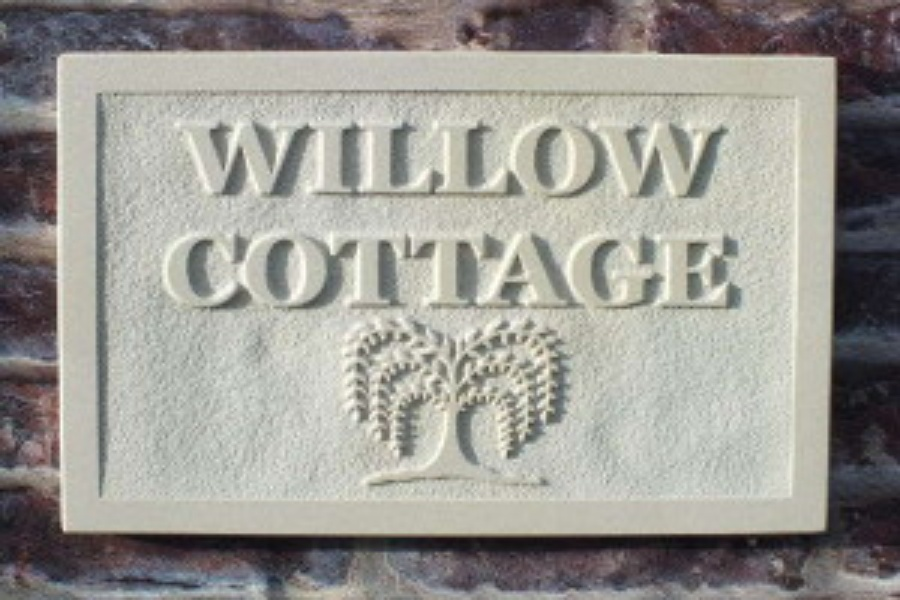text: (177, 115, 192, 199), (193, 115, 208, 199), (209, 115, 224, 199), (225, 115, 240, 199), (241, 115, 256, 199), (257, 115, 272, 199), (273, 115, 288, 199), (289, 115, 304, 199), (305, 115, 320, 199), (321, 115, 336, 199), (337, 115, 352, 199), (353, 115, 368, 199), (369, 115, 384, 199), (385, 115, 400, 199), (401, 115, 416, 199), (417, 115, 432, 199), (433, 115, 448, 199), (449, 115, 464, 199), (465, 115, 480, 199), (481, 115, 496, 199), (497, 115, 512, 199), (513, 115, 528, 199), (529, 115, 544, 199), (545, 115, 560, 199), (561, 115, 576, 199), (577, 115, 592, 199), (593, 115, 608, 199), (609, 115, 624, 199), (625, 115, 640, 199), (641, 115, 656, 199), (657, 115, 672, 199), (673, 115, 688, 199), (689, 115, 704, 199), (705, 115, 720, 199), (177, 232, 192, 310), (193, 232, 208, 310), (209, 232, 224, 310), (225, 232, 240, 310), (241, 232, 256, 310), (257, 232, 272, 310), (273, 232, 288, 310), (289, 232, 304, 310), (305, 232, 320, 310), (321, 232, 336, 310), (337, 232, 352, 310), (353, 232, 368, 310), (369, 232, 384, 310), (385, 232, 400, 310), (401, 232, 416, 310), (417, 232, 432, 310), (433, 232, 448, 310), (449, 232, 464, 310), (465, 232, 480, 310), (481, 232, 496, 310), (497, 232, 512, 310), (513, 232, 528, 310), (529, 232, 544, 310), (545, 232, 560, 310), (561, 232, 576, 310), (577, 232, 592, 310), (593, 232, 608, 310), (609, 232, 624, 310), (625, 232, 640, 310), (641, 232, 656, 310), (657, 232, 672, 310), (673, 232, 688, 310), (689, 232, 704, 310), (705, 232, 720, 310), (163, 232, 176, 310), (721, 232, 730, 310), (721, 115, 727, 199), (175, 115, 176, 199)
